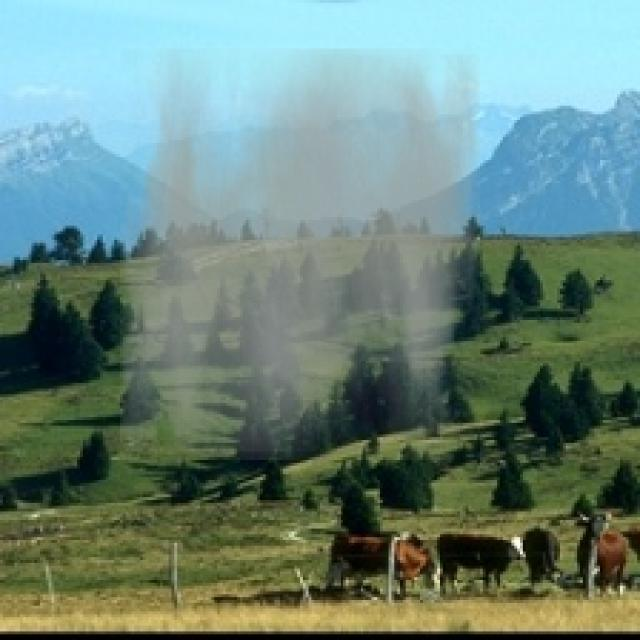smoke: (120, 49, 480, 460)
